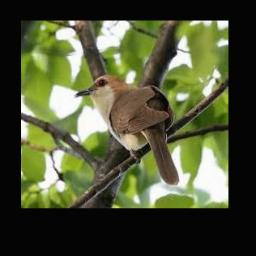Cuckoo: (75, 73, 179, 186)
